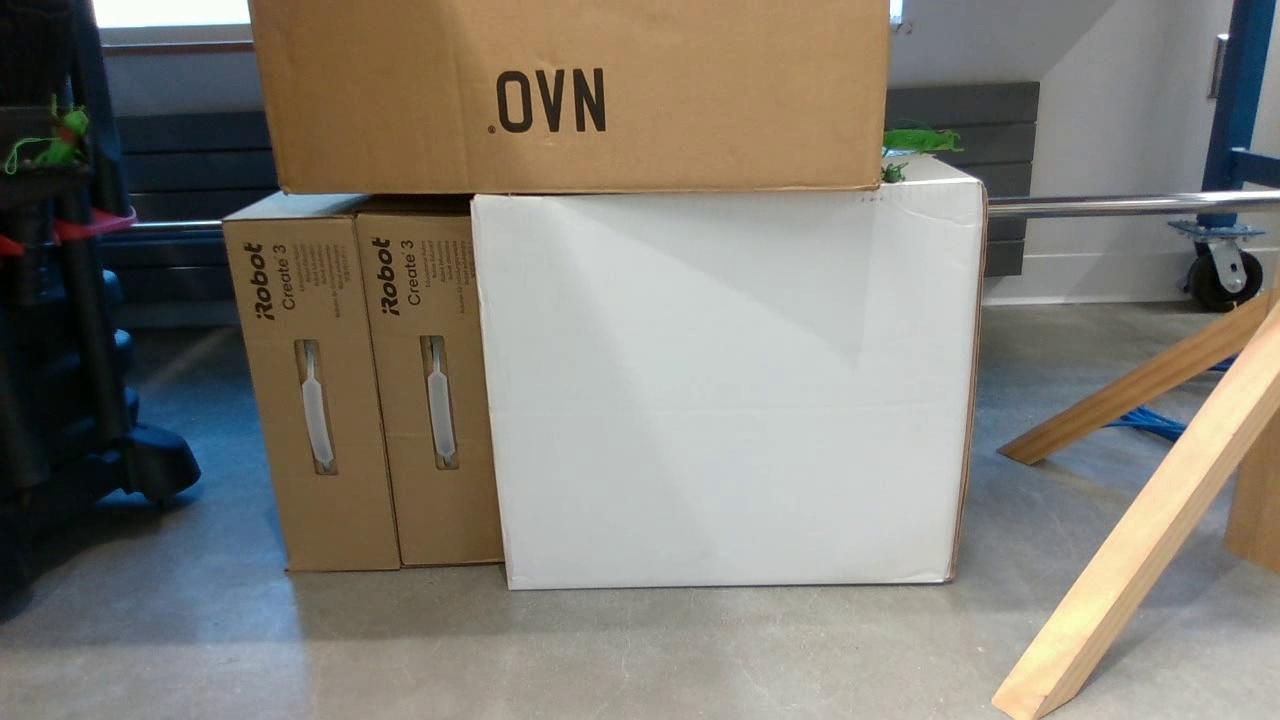grasshopper: (22, 96, 91, 159), (878, 125, 967, 152)
